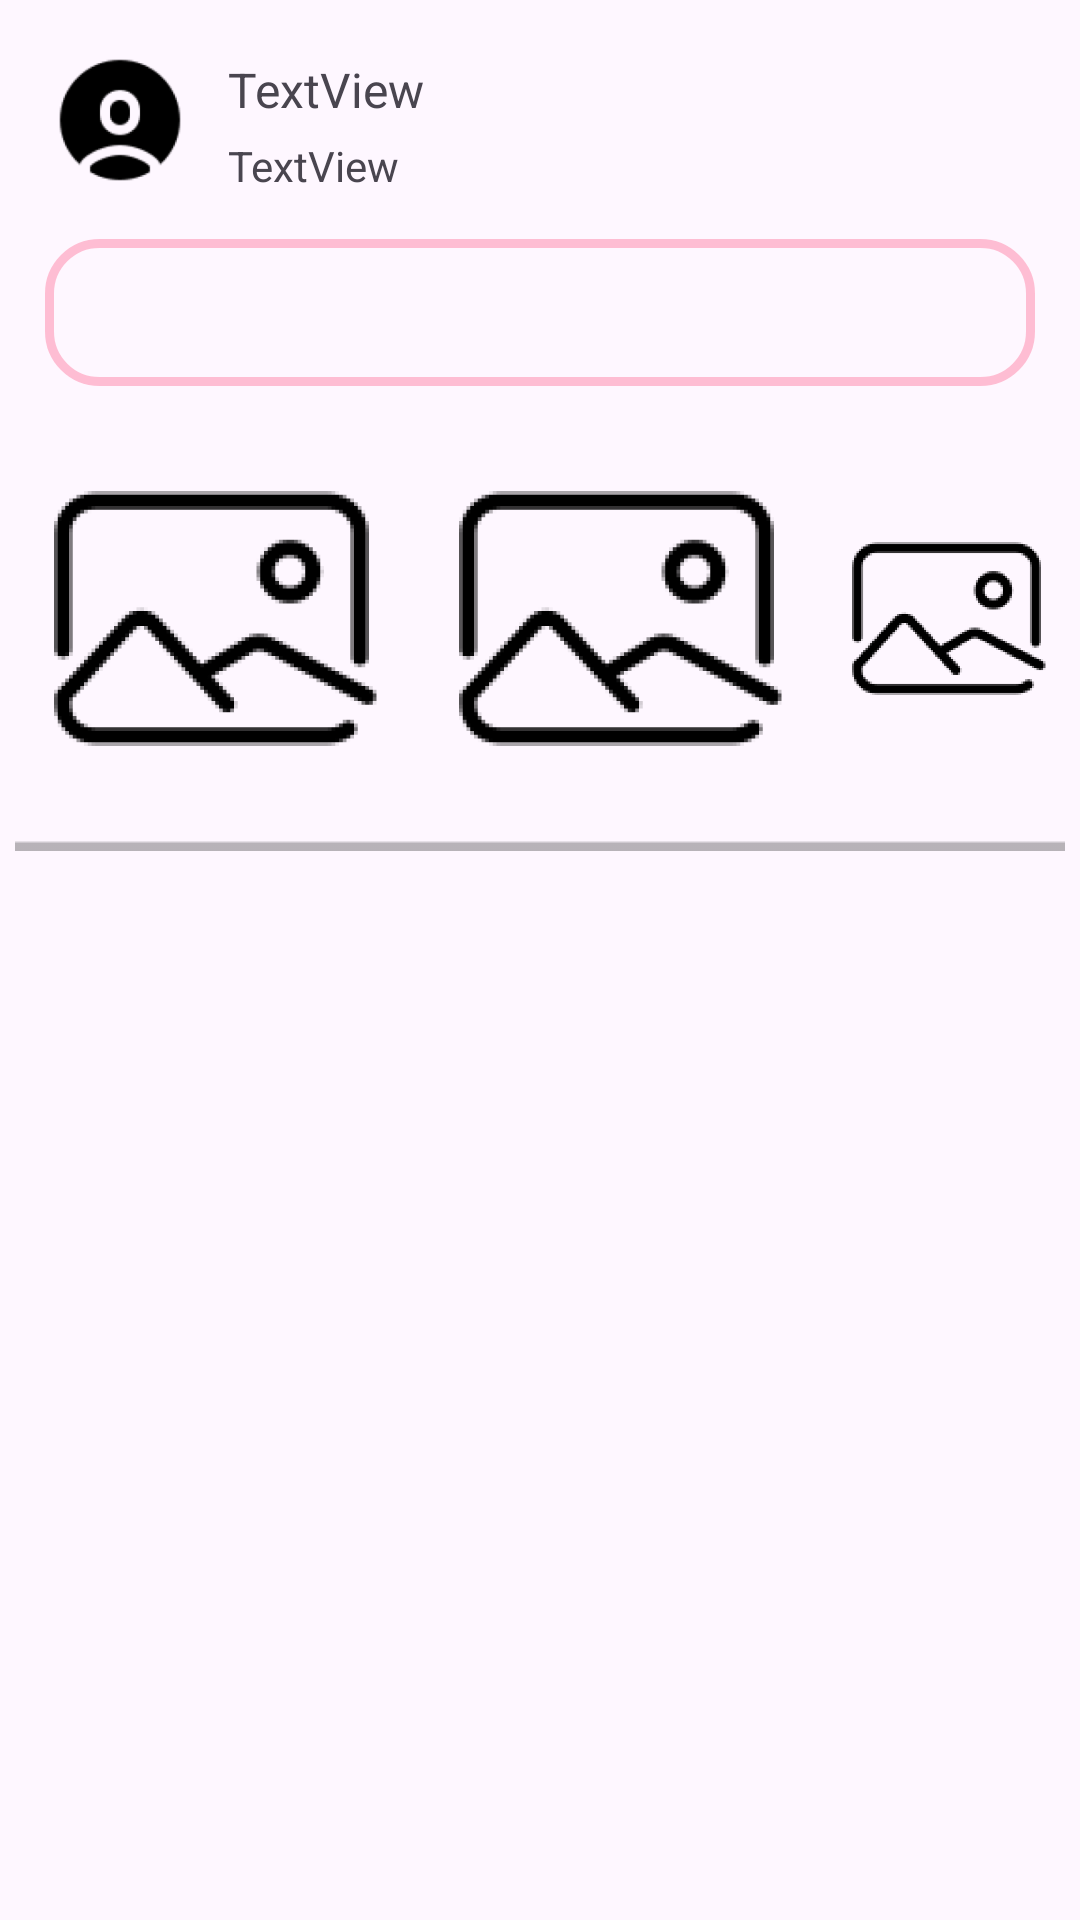

Point at icon controls on the screen. Image size 1080×1920, points as point (x, y).
profile: point (120, 120)
